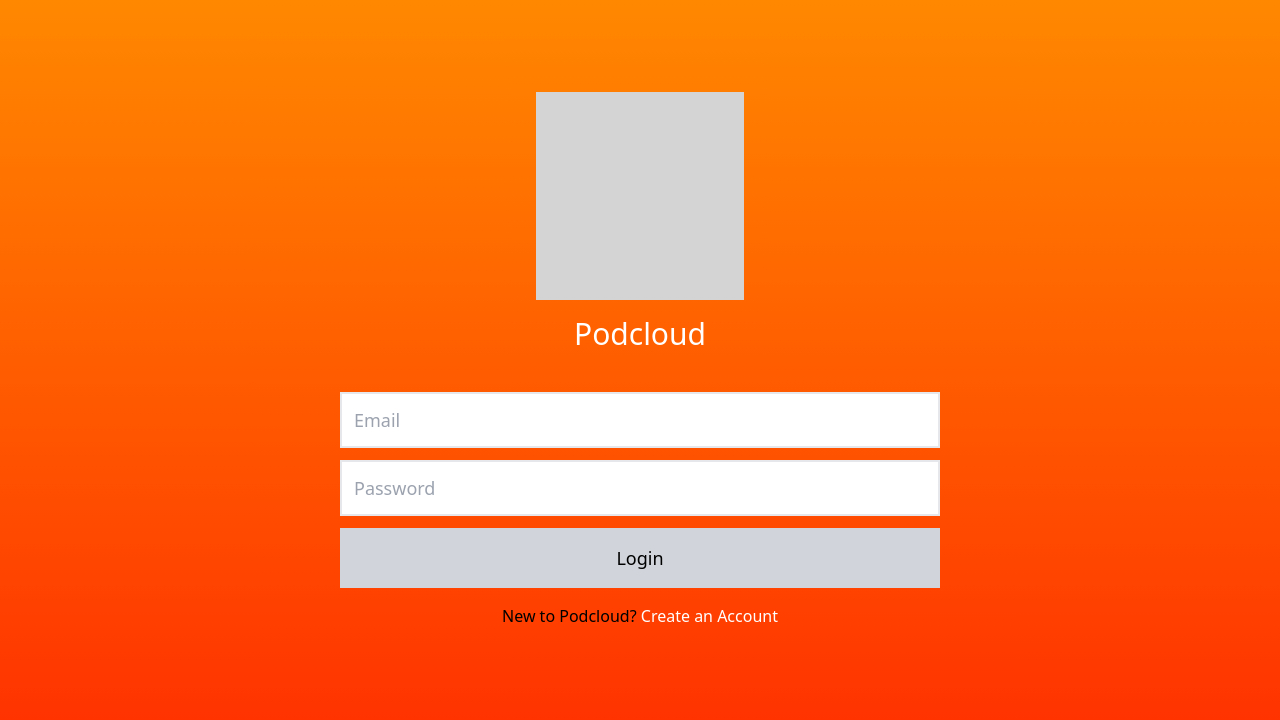
Test: <Login /> › displays email validation errors
Type "wrong@wrong" into the field with placeholder "Email". click: (640, 420)
box: [340, 392, 940, 448]
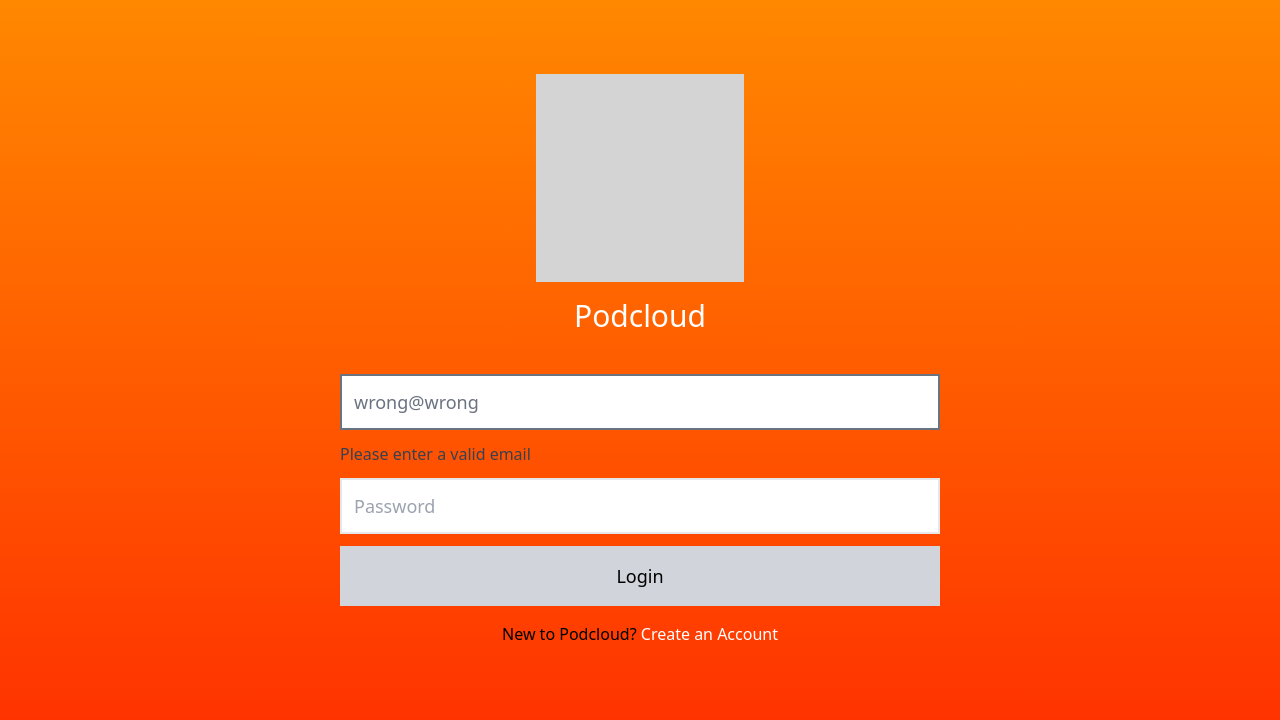
Expected: the message reads "Please enter a valid email", [340, 443, 531, 465]
Clear the field with placeholder "Email". click: (640, 402)
box: [340, 374, 940, 430]
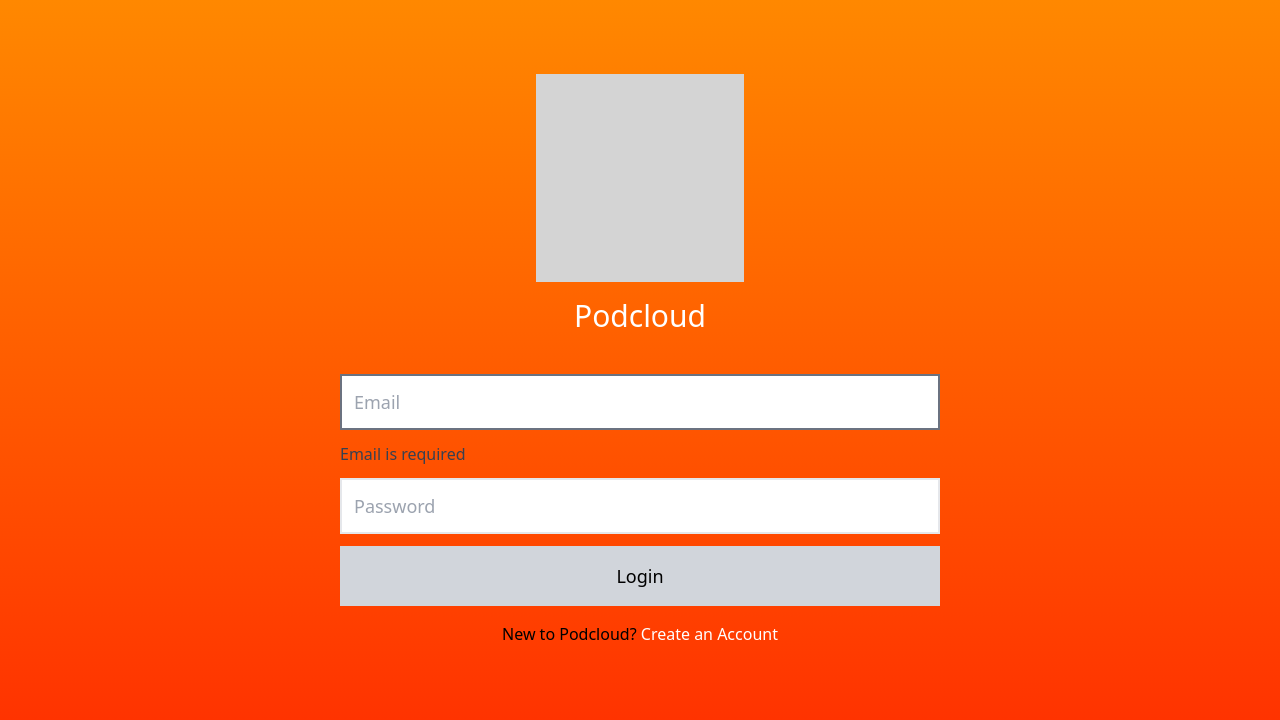
Expected: the message reads "Email is required", [340, 443, 466, 465]
